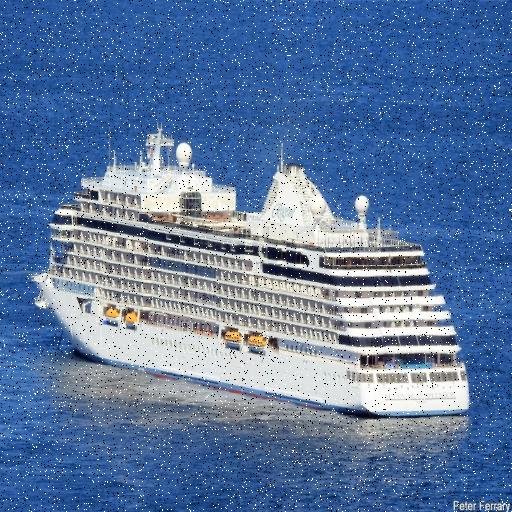cruises: (29, 122, 474, 426)
